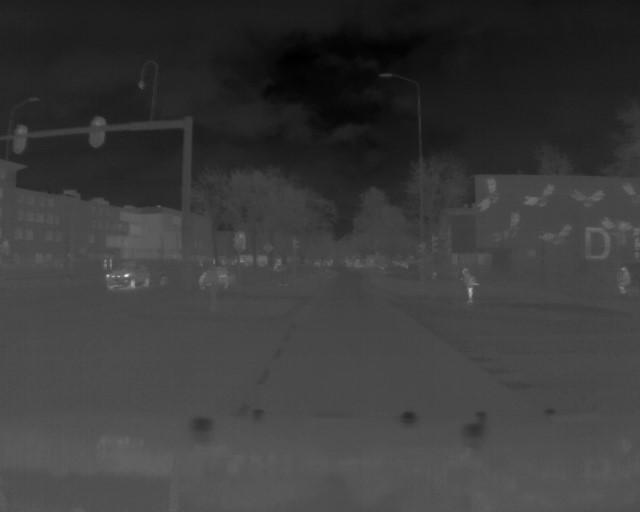car: (104, 261, 152, 289)
person: (458, 266, 482, 312), (613, 262, 631, 301)
